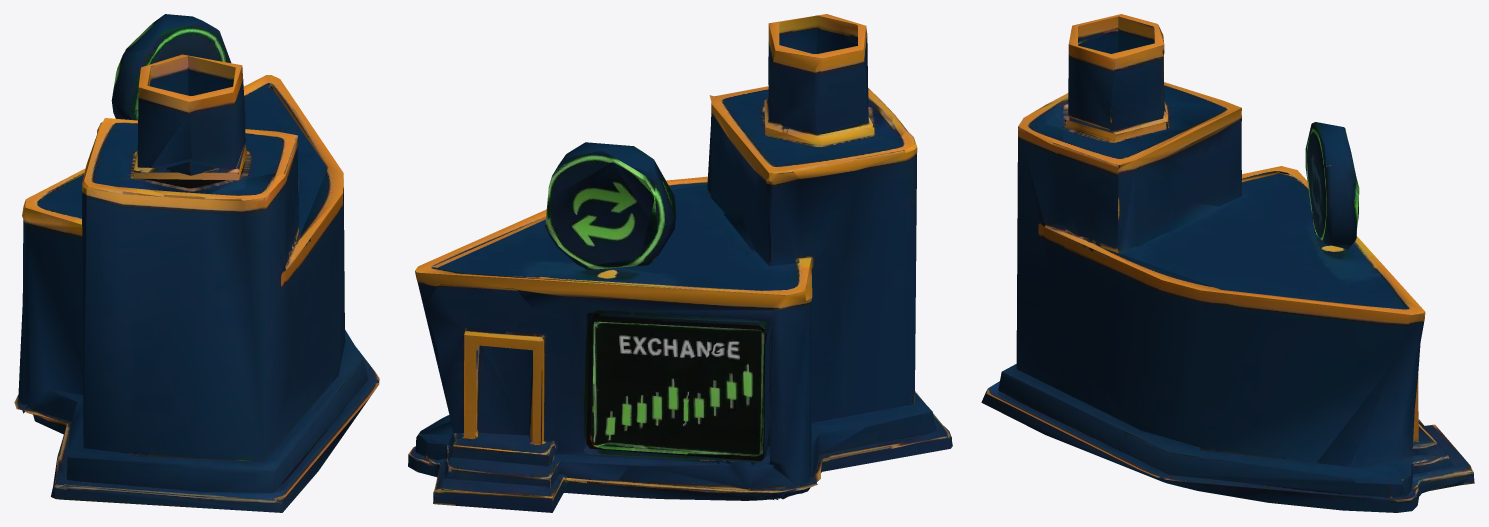
File: exchange.glb
The picture shows the model from 3 angles, left to right: view 1: azimuth 30°, elevation 25°; view 2: azimuth 150°, elevation 25°; view 3: azimuth 270°, elevation 25°; orthographic projection. The views are drawn at different scales.
Visible parts, largest first — view 1: body_exchange; view 2: body_exchange; view 3: body_exchange.
Part boxes in pixels (x1=…): body_exchange: x1=14, y1=14, x2=379, y2=512; body_exchange: x1=408, y1=14, x2=952, y2=512; body_exchange: x1=981, y1=14, x2=1474, y2=512.
Size of the model in its own units: 470 by 436 by 542.
Materials: 1 (1 with a texture image).
